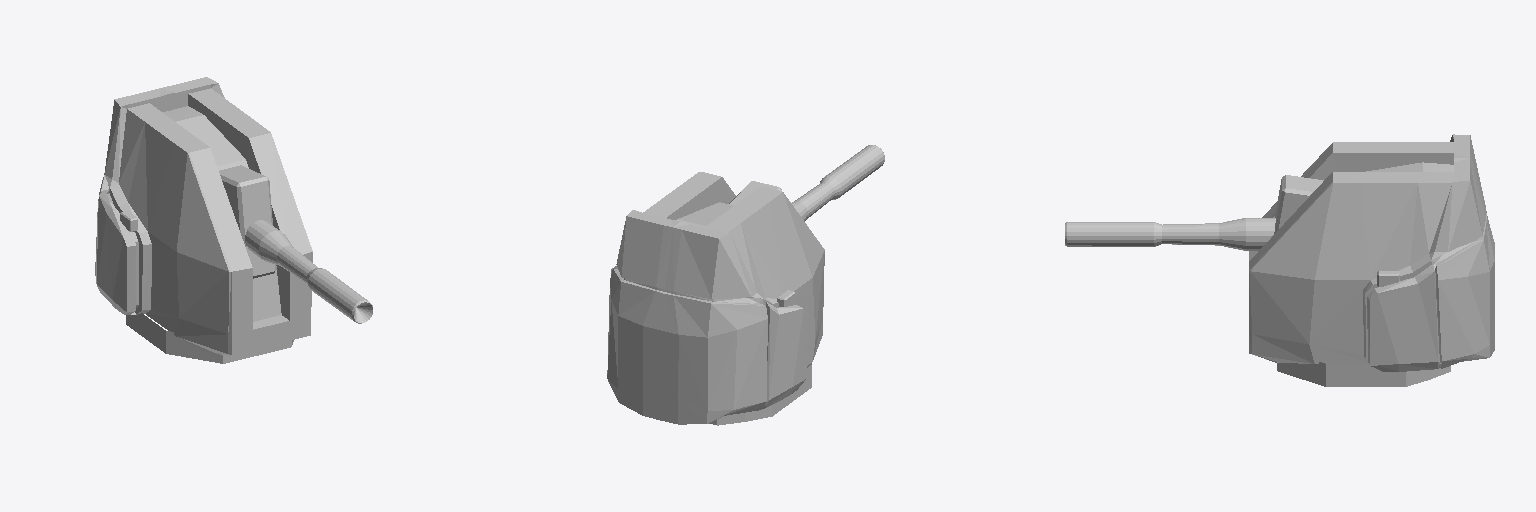
Rendered from ScarTurret.obj.
3 views of the same model, side by side, from view 1: azimuth 30°, elevation 25°; view 2: azimuth 150°, elevation 25°; view 3: azimuth 270°, elevation 25° (orthographic).
Parts seen in each view (by area): view 1: turret_サラミス級宇宙戦艦　オリジン.002; view 2: turret_サラミス級宇宙戦艦　オリジン.002; view 3: turret_サラミス級宇宙戦艦　オリジン.002.
Part boxes in pixels (bbox=[...]): turret_サラミス級宇宙戦艦　オリジン.002: bbox=[95, 77, 372, 363]; turret_サラミス級宇宙戦艦　オリジン.002: bbox=[607, 145, 884, 425]; turret_サラミス級宇宙戦艦　オリジン.002: bbox=[1065, 134, 1494, 386].
Size of the model in its own units: 3.45 by 3.86 by 7.64.